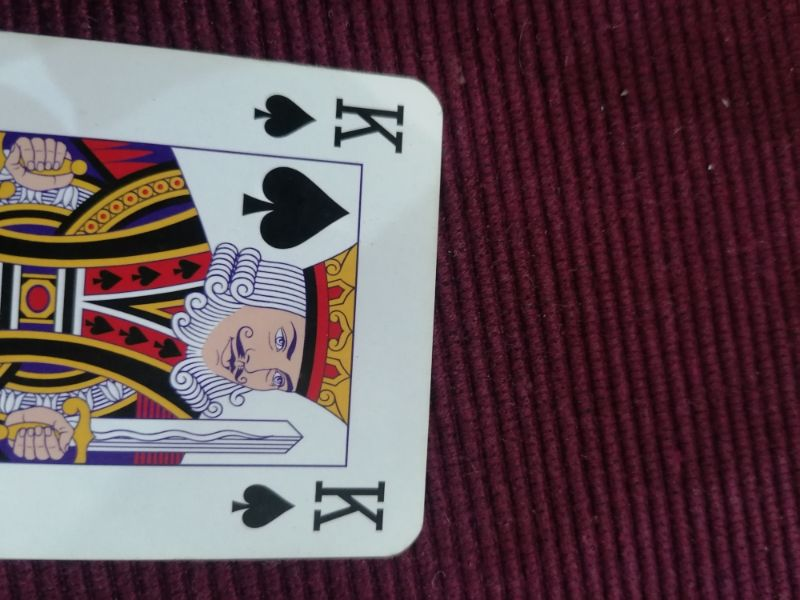Ks: (251, 85, 413, 156), (222, 473, 391, 535)
